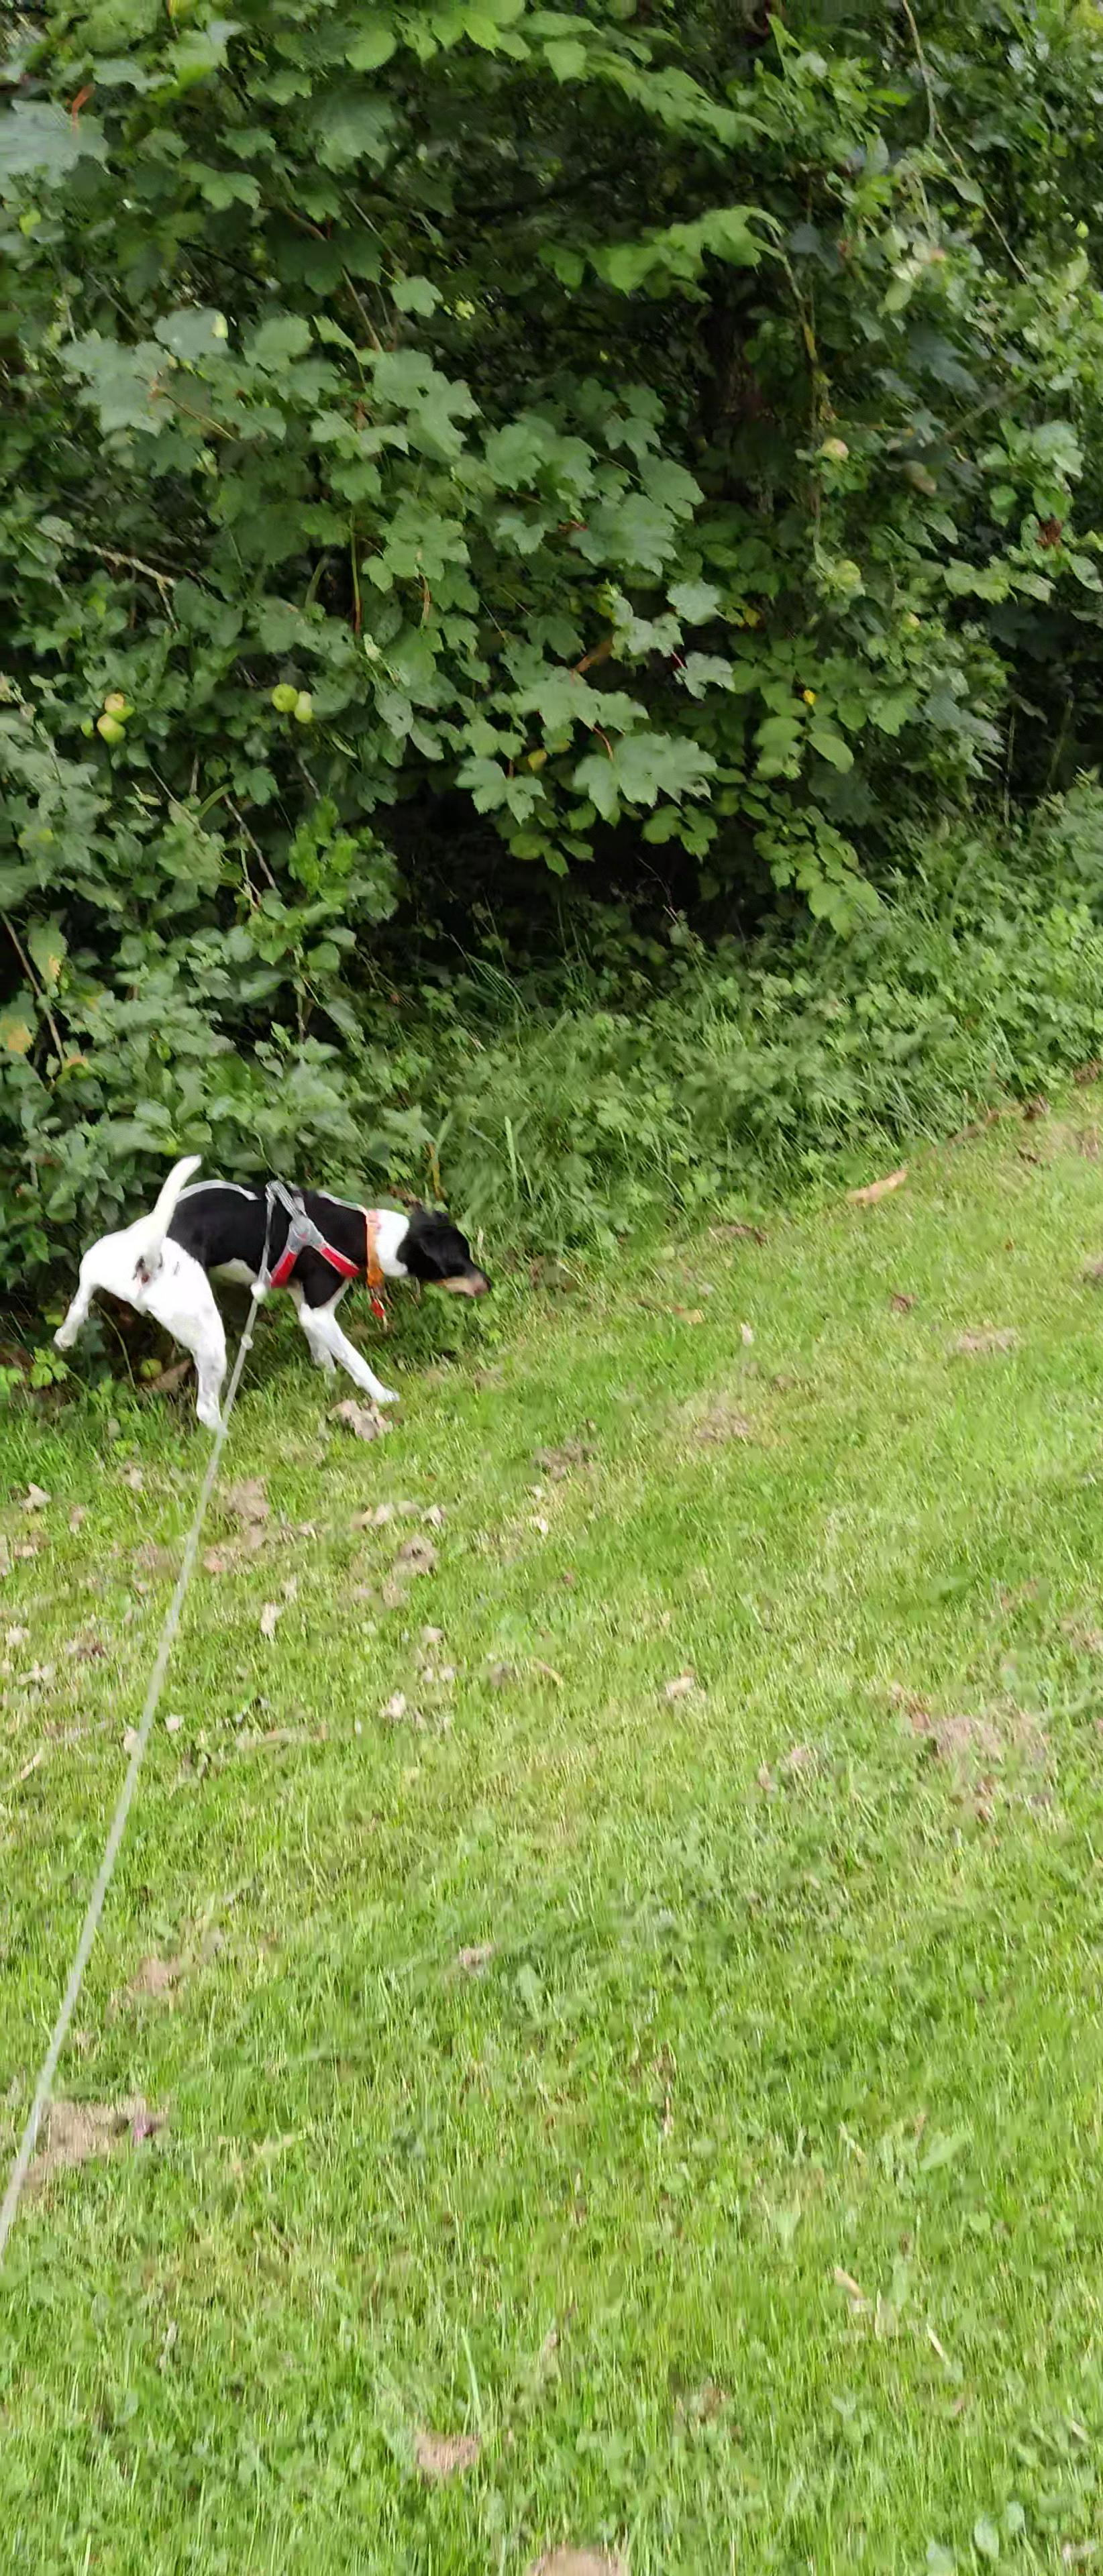Dog: (51, 1145, 503, 1447)
